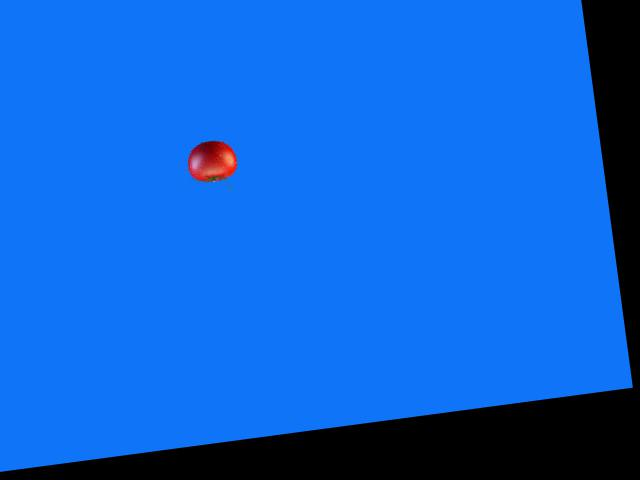tomato: (184, 137, 238, 184)
